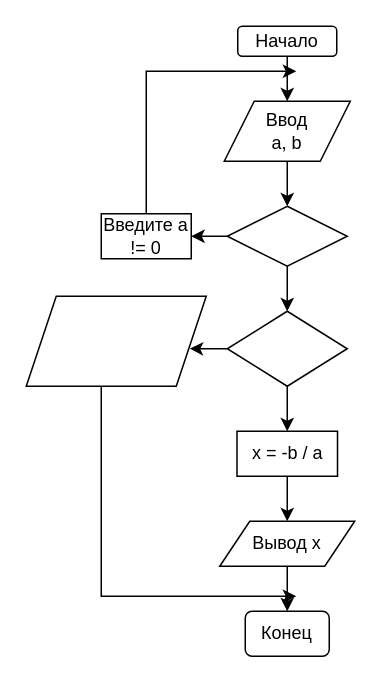
Image size: 381x683. Some labels were removed from this diagram. The shapes that lost their labels are listed below. From the top down, each one's centre as x and y in pixels, then its label:
the point at 286,235: а != 0?
the point at 115,340: Функция принадлежит от - ∞ до ∞
the point at 286,348: b == 0?
